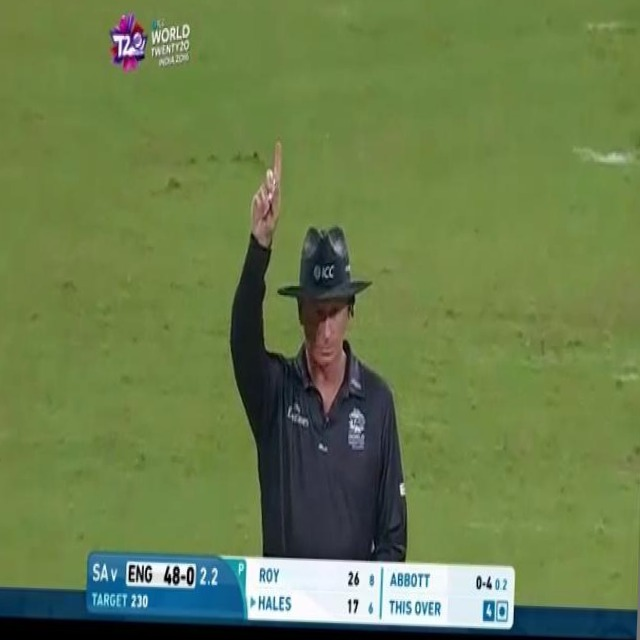Out: (218, 130, 428, 553)
